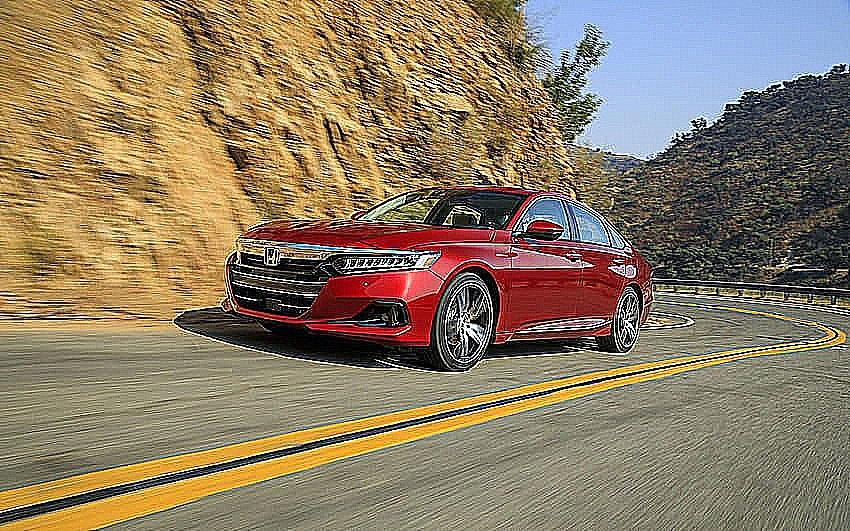Car hood: (236, 215, 497, 253)
Fender - -F-L-: (428, 226, 514, 341)
Front bumper: (217, 265, 451, 350)
Headlight - -L-: (318, 245, 445, 280), (323, 245, 444, 279)
Passenger-s door - -F-L-: (513, 194, 582, 334)
Passenger-s door - -R-L-: (571, 195, 626, 333)
Rear bumper: (637, 288, 657, 330)
Rear light - -L-: (613, 249, 649, 328)
Side bumper - -L-: (487, 317, 619, 348)
Side mirror - -L-: (517, 213, 570, 252)
Side mirror - -R-: (341, 207, 369, 224)
